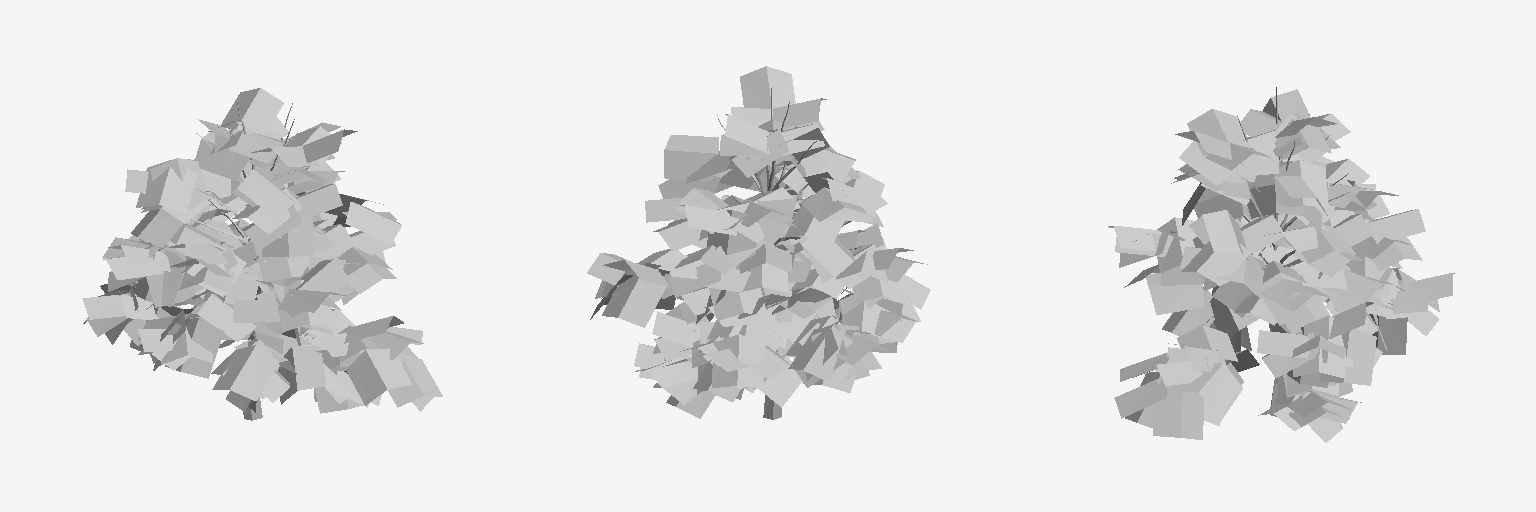
File: tree1a_lod1.obj
3 views of the same model, side by side, from view 1: azimuth 30°, elevation 25°; view 2: azimuth 150°, elevation 25°; view 3: azimuth 270°, elevation 25° (orthographic).
Parts seen in each view (by area): view 1: leaves 0.0 0.[number redacted] 0.0 0 0 0 0.[number redacted] 0.[number redacted], bark 0.[number redacted] -0.[number redacted] -0.[number redacted]; view 2: leaves 0.0 0.[number redacted] 0.0 0 0 0 0.[number redacted] 0.[number redacted], bark 0.[number redacted] -0.[number redacted] -0.[number redacted]; view 3: leaves 0.0 0.[number redacted] 0.0 0 0 0 0.[number redacted] 0.[number redacted], bark 0.[number redacted] -0.[number redacted] -0.[number redacted].
Boxes of the visible parts, x1=… form: leaves 0.0 0.[number redacted] 0.0 0 0 0 0.[number redacted] 0.[number redacted]: x1=82, y1=88, x2=442, y2=413; bark 0.[number redacted] -0.[number redacted] -0.[number redacted]: x1=187, y1=103, x2=357, y2=420; leaves 0.0 0.[number redacted] 0.0 0 0 0 0.[number redacted] 0.[number redacted]: x1=587, y1=66, x2=930, y2=418; bark 0.[number redacted] -0.[number redacted] -0.[number redacted]: x1=716, y1=88, x2=842, y2=419; leaves 0.0 0.[number redacted] 0.0 0 0 0 0.[number redacted] 0.[number redacted]: x1=1108, y1=89, x2=1454, y2=442; bark 0.[number redacted] -0.[number redacted] -0.[number redacted]: x1=1199, y1=87, x2=1348, y2=416.
Size of the model in its own units: 0.9827 by 1 by 1.